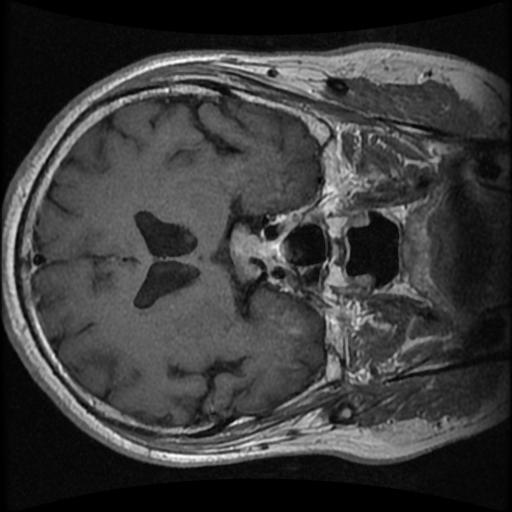pituitary tumour: (224, 211, 299, 289)
